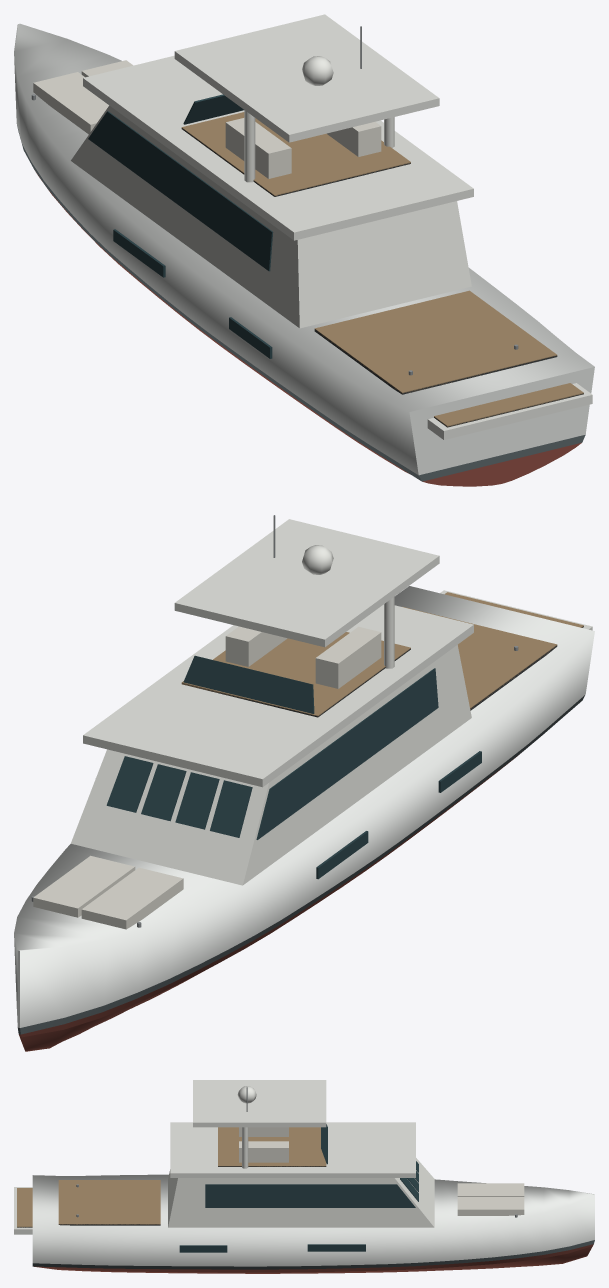
File: yacht-low.glb
The picture shows the model from 3 angles, top to bottom: view 1: azimuth 30°, elevation 25°; view 2: azimuth 150°, elevation 25°; view 3: azimuth 270°, elevation 25°; orthographic projection. The views are drawn at different scales.
Parts seen in each view (by area): view 1: white, hull, teak, window, canvas, bottom, stripe, black; view 2: white, hull, window, canvas, teak, bottom, stripe; view 3: hull, white, teak, window, canvas, bottom, stripe, black.
Part boxes in pixels (<box>): white: <box>71,14,592,439</box>; hull: <box>14,23,594,475</box>; teak: <box>181,112,583,426</box>; window: <box>88,94,273,358</box>; canvas: <box>33,60,381,178</box>; bottom: <box>36,173,581,486</box>; stripe: <box>17,125,585,481</box>; black: <box>181,128,583,427</box>; white: <box>71,519,592,885</box>; hull: <box>14,586,594,1027</box>; window: <box>106,655,481,879</box>; canvas: <box>33,626,381,929</box>; teak: <box>181,592,583,716</box>; bottom: <box>18,754,519,1051</box>; stripe: <box>18,695,584,1034</box>; hull: <box>32,1174,594,1266</box>; white: <box>14,1080,434,1234</box>; teak: <box>17,1127,326,1227</box>; window: <box>179,1124,418,1252</box>; canvas: <box>239,1127,524,1215</box>; bottom: <box>34,1244,593,1273</box>; stripe: <box>32,1240,594,1269</box>; black: <box>17,1166,326,1227</box>.
Bounding box in the file's own units: 6.83 × 10.24 × 27.9.
